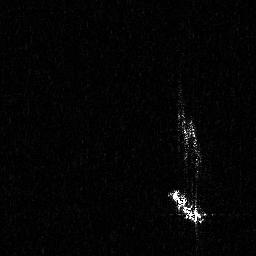ship: (161, 186, 217, 243), (175, 87, 207, 183)
